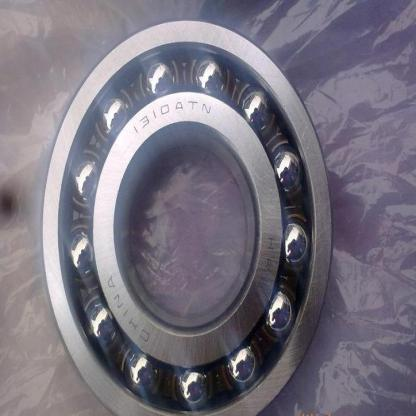FOD: (36, 14, 336, 415)
